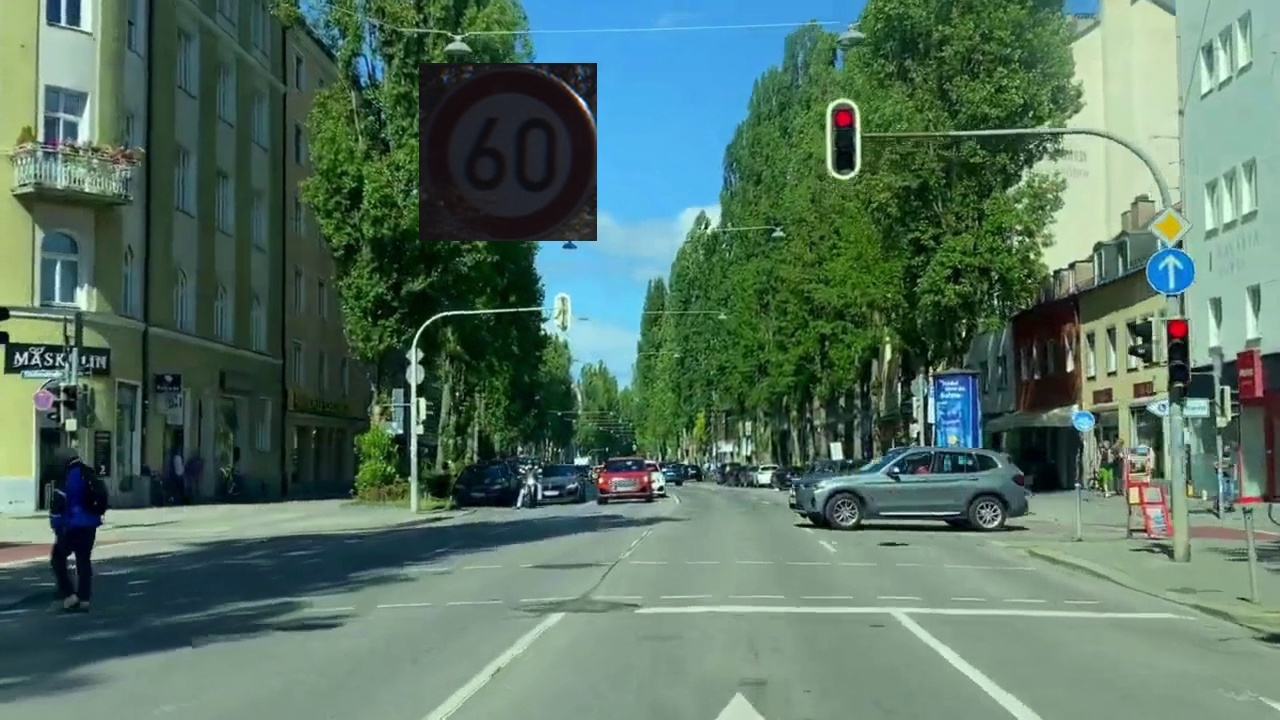Speed 60: (419, 63, 597, 241)
